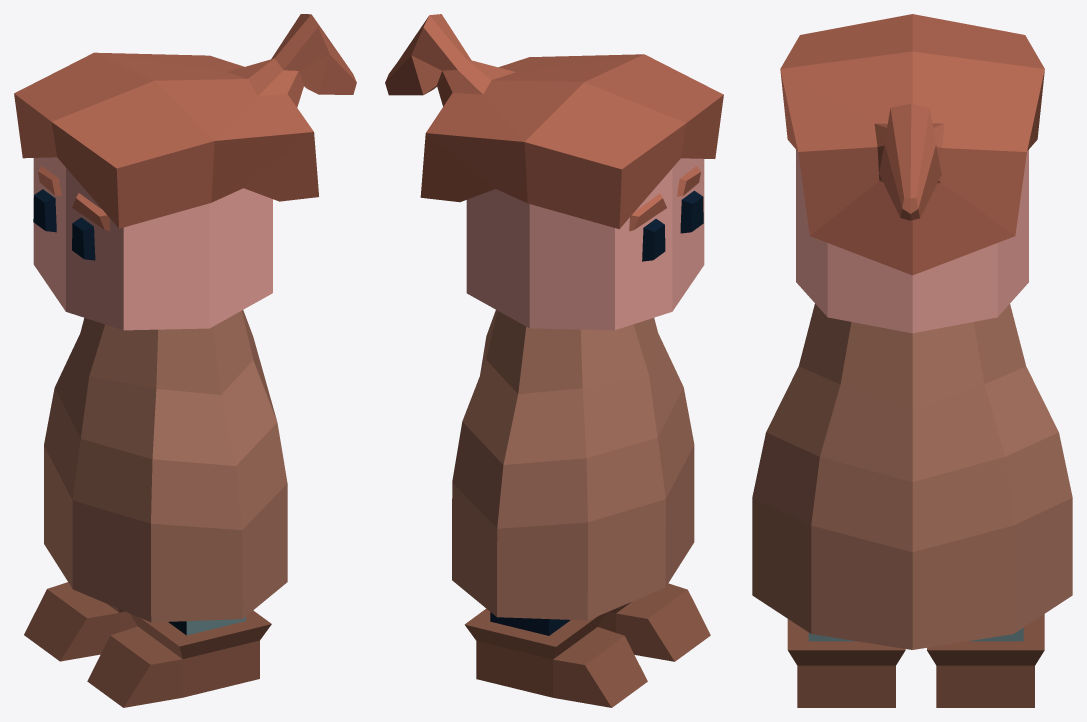
Rendered from SK_Standard_Citizen_C.fbx.
3 renders of one model, left to right at view 1: azimuth 30°, elevation 25°; view 2: azimuth 150°, elevation 25°; view 3: azimuth 270°, elevation 25°, orthographic. The views are drawn at different scales.
Parts seen in each view (by area): view 1: SK_StandardCharacter_C; view 2: SK_StandardCharacter_C; view 3: SK_StandardCharacter_C.
Part boxes in pixels (box(x1,y1,x2,y2)): SK_StandardCharacter_C: box(14, 14, 356, 707); SK_StandardCharacter_C: box(385, 14, 723, 707); SK_StandardCharacter_C: box(752, 14, 1072, 707).
Size of the model in its own units: 76.2 by 145 by 63.84.
